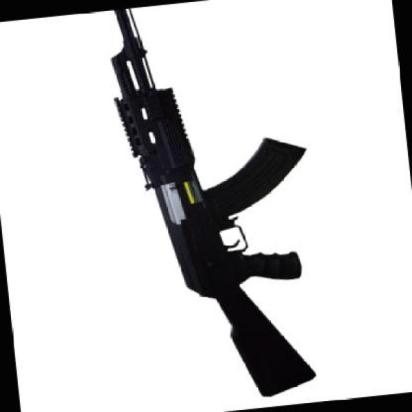Gun: (83, 0, 358, 410)
